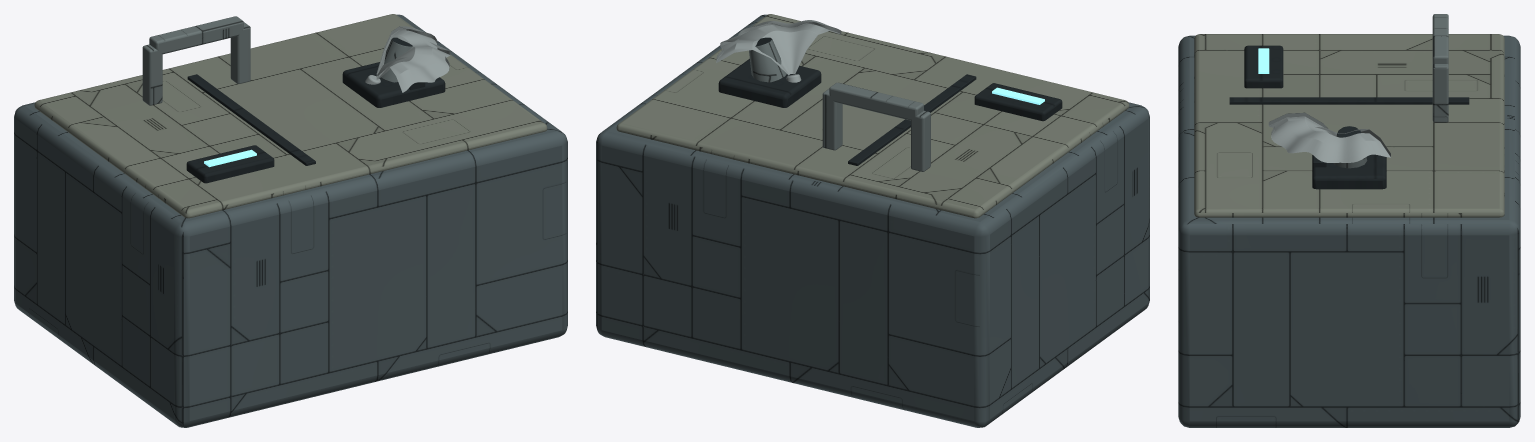
File: borrowed_voice_c.glb
3 views of the same model, side by side, from view 1: azimuth 30°, elevation 25°; view 2: azimuth 150°, elevation 25°; view 3: azimuth 270°, elevation 25° (orthographic).
Parts seen in each view (by area): view 1: LOD0_Hull, LOD0_Armor, LOD0_MechanicalDark, LOD0_BrushedMetal, LOD0_MOTION_BORROWED_VOICE_RECEIVER_Stone; view 2: LOD0_Hull, LOD0_Armor, LOD0_MechanicalDark, LOD0_BrushedMetal, LOD0_MOTION_BORROWED_VOICE_RECEIVER_Stone, LOD0_MOTION_BORROWED_VOICE_RECEIVER_BrushedMetal; view 3: LOD0_Hull, LOD0_Armor, LOD0_MechanicalDark, LOD0_MOTION_BORROWED_VOICE_RECEIVER_Stone, LOD0_BrushedMetal, LOD0_MOTION_BORROWED_VOICE_RECEIVER_MechanicalDark.
Boxes of the visible parts, box(x1,y1,x2,y2) form: LOD0_Hull: box(14, 14, 567, 427); LOD0_Armor: box(34, 14, 547, 218); LOD0_MechanicalDark: box(186, 62, 445, 183); LOD0_BrushedMetal: box(142, 16, 250, 105); LOD0_MOTION_BORROWED_VOICE_RECEIVER_Stone: box(365, 26, 450, 92); LOD0_Hull: box(596, 14, 1149, 427); LOD0_Armor: box(616, 14, 1129, 218); LOD0_MechanicalDark: box(718, 59, 1062, 165); LOD0_BrushedMetal: box(822, 82, 930, 171); LOD0_MOTION_BORROWED_VOICE_RECEIVER_Stone: box(716, 20, 841, 82); LOD0_MOTION_BORROWED_VOICE_RECEIVER_BrushedMetal: box(749, 39, 786, 82); LOD0_Hull: box(1178, 35, 1520, 427); LOD0_Armor: box(1194, 34, 1504, 217); LOD0_MechanicalDark: box(1229, 45, 1469, 189); LOD0_MOTION_BORROWED_VOICE_RECEIVER_Stone: box(1268, 112, 1390, 162); LOD0_BrushedMetal: box(1432, 14, 1448, 122); LOD0_MOTION_BORROWED_VOICE_RECEIVER_MechanicalDark: box(1313, 126, 1361, 168).
Size of what is drawn, in the model's own units: 4 by 2.67 by 3.
6 materials, 4 textured.
